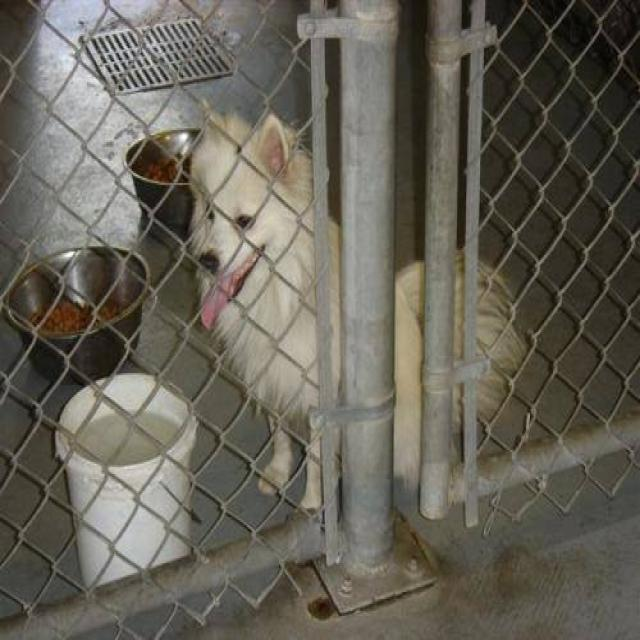dog: (184, 98, 530, 514)
